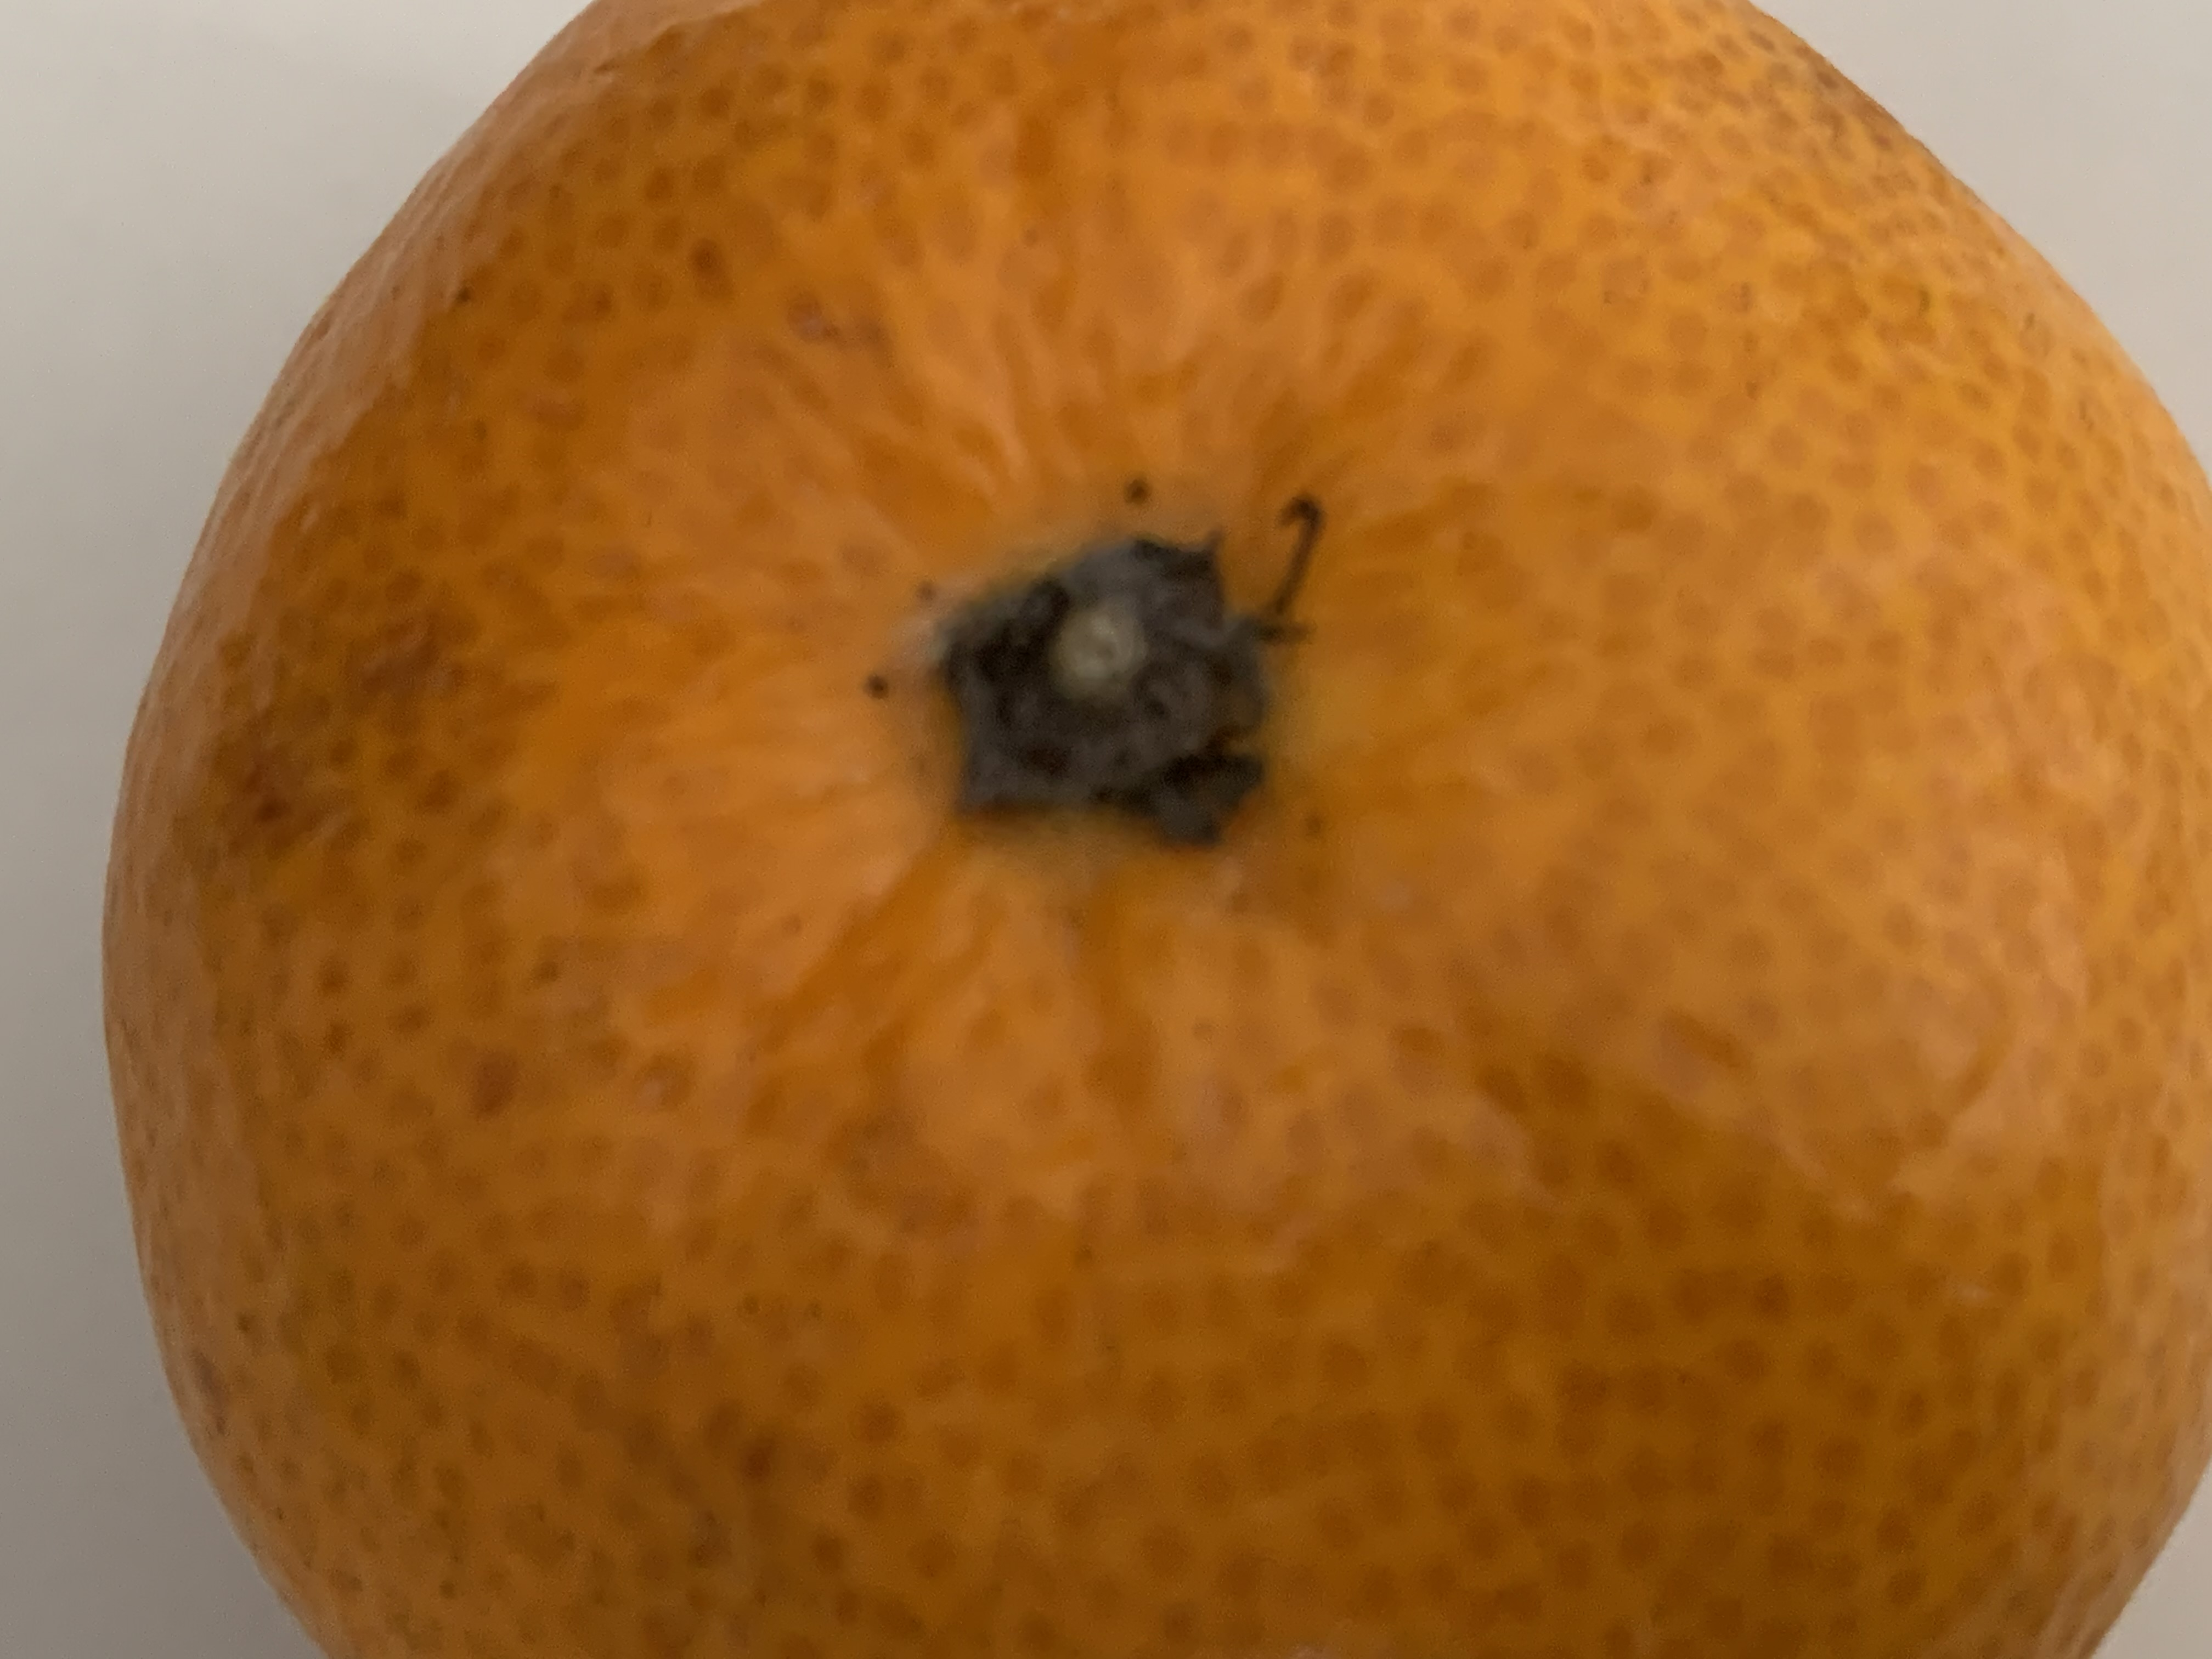orange: (105, 12, 2212, 1654)
